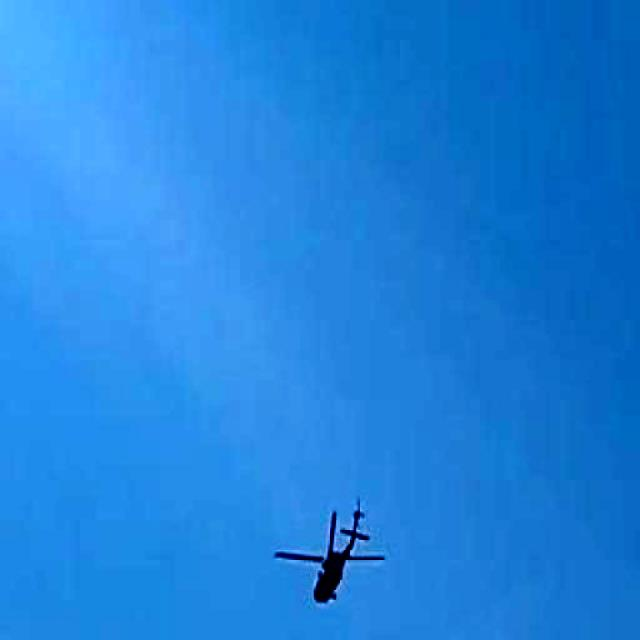drone: (254, 461, 416, 640)
